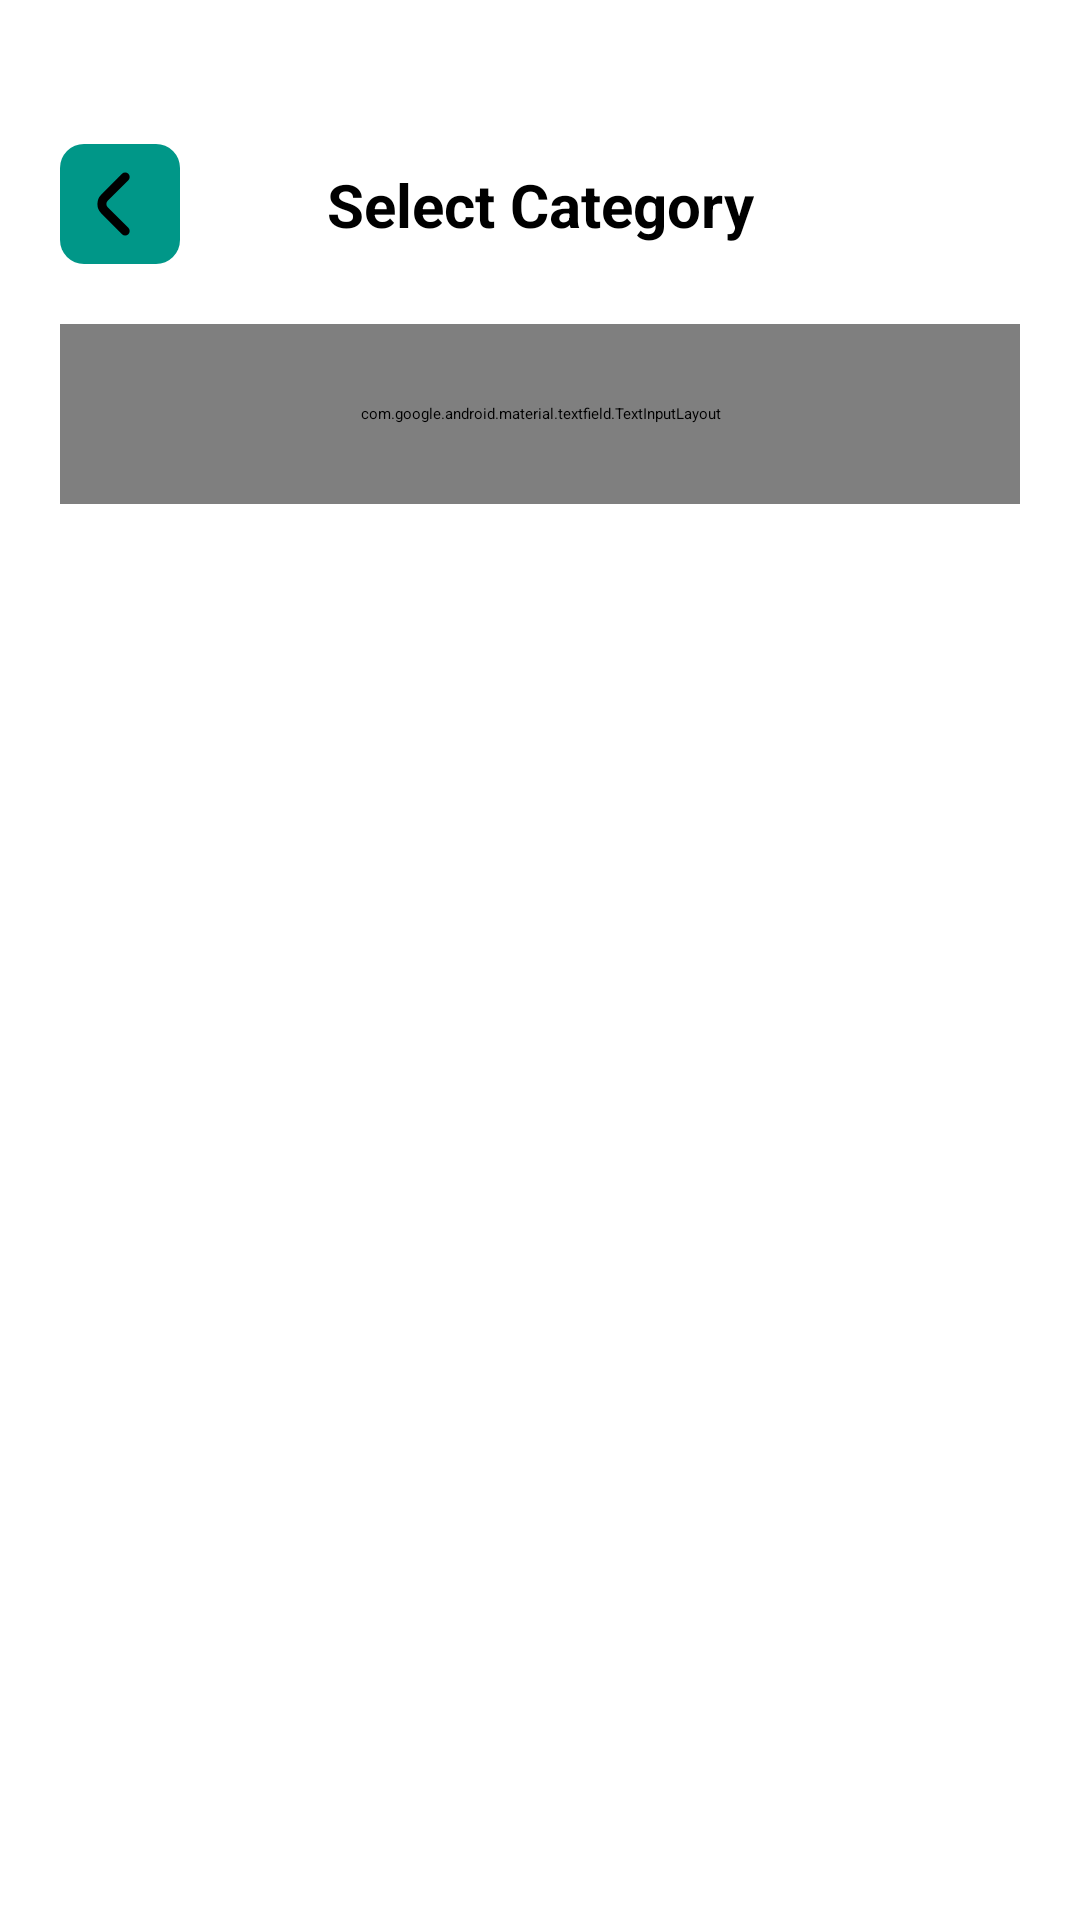

Named icons in this screenshot (1080*1920) and their bounding boxes, (x1, y1, x2, y2):
Back Button: (60, 144, 180, 264)
